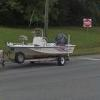Boat: (3, 28, 95, 83)
